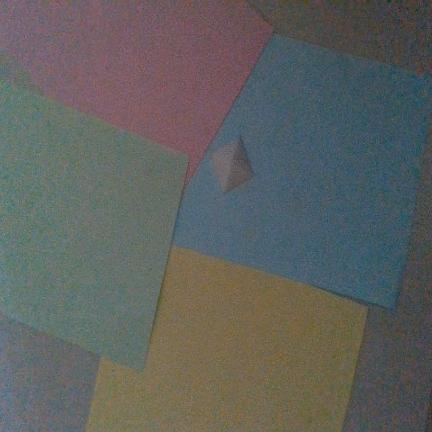Piramide: (211, 139, 252, 193)
